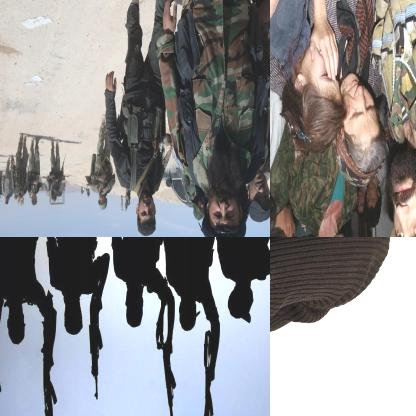rifle: (84, 310, 108, 399), (158, 337, 180, 415), (39, 366, 62, 415), (201, 360, 220, 415), (0, 352, 6, 415)
